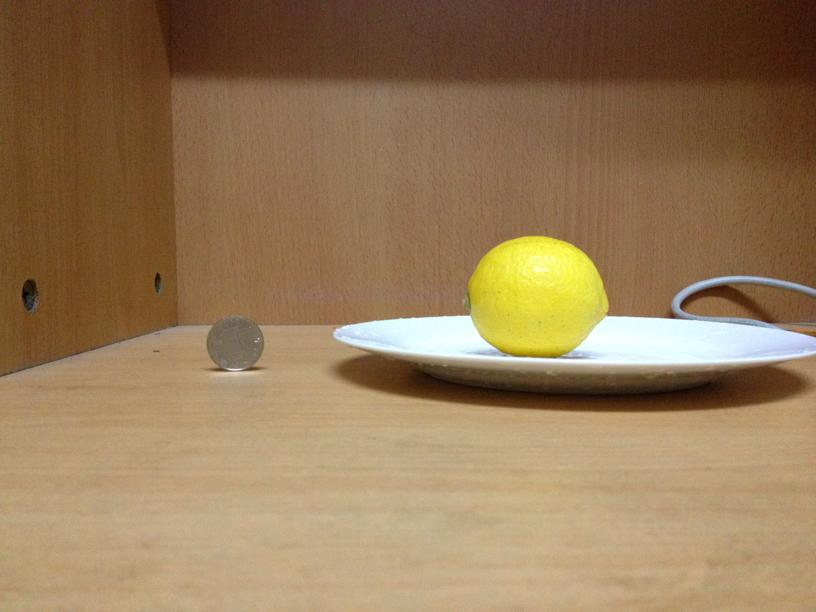coin: (205, 315, 262, 371)
lemon: (462, 232, 607, 355)
